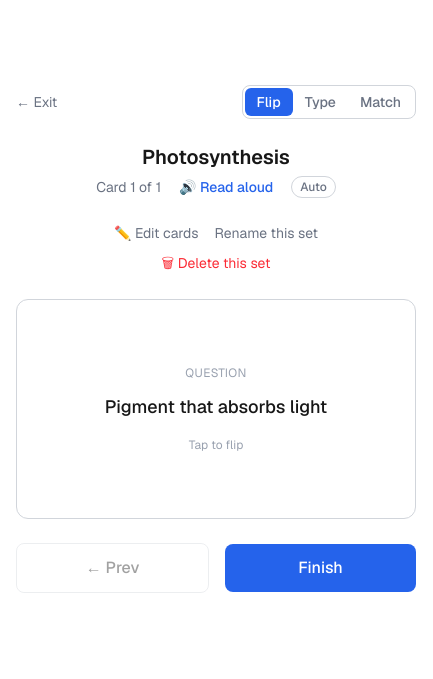
Test case: where a saved card came from › shows the saved quote and its page once the card is flipped
What coordinates should you click on to do the following:
click the button "Question Pigment that absorbs light Tap to flip"
I would click on:
 (216, 409)
Its box is 16,299 -> 416,519.
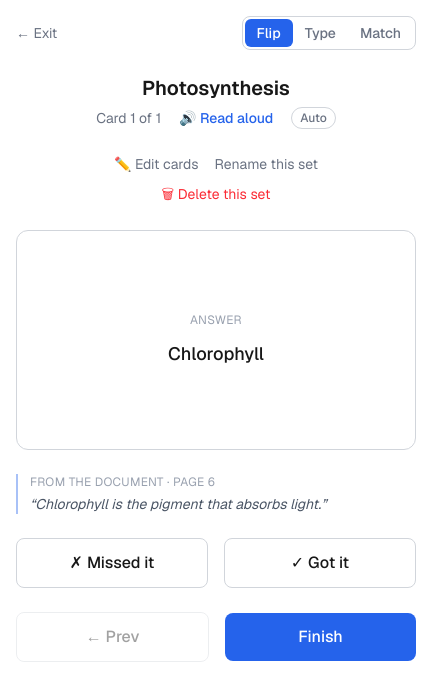
Now the text "From the document · Page 6" is shown, box 30,474 -> 215,490
